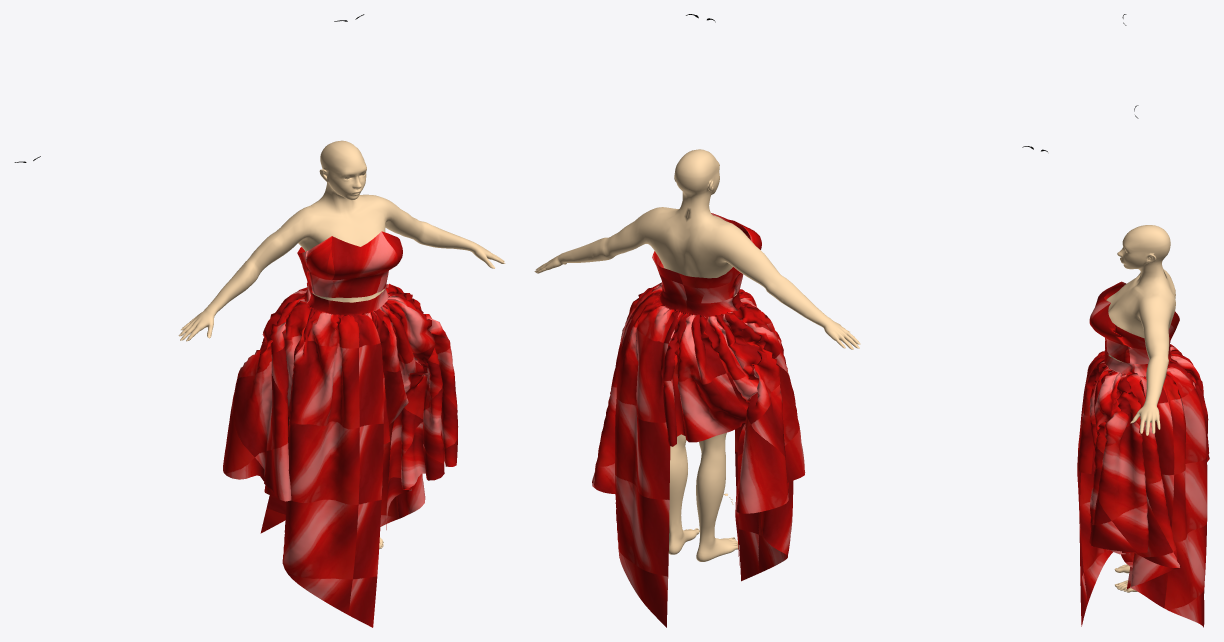
The model's file is dress2.glb.
3 views of the same model, side by side, from view 1: azimuth 30°, elevation 25°; view 2: azimuth 150°, elevation 25°; view 3: azimuth 270°, elevation 25° (orthographic). The views are drawn at different scales.
Parts seen in each view (by area): view 1: Project 1, Body.003; view 2: Project 1, Body.003; view 3: Project 1, Body.003.
Part boxes in pixels (left/top/right/bottom): Project 1: left=223, top=231, right=458, bottom=627; Body.003: left=180, top=140, right=504, bottom=549; Project 1: left=592, top=213, right=805, bottom=627; Body.003: left=535, top=149, right=858, bottom=561; Project 1: left=1077, top=281, right=1209, bottom=627; Body.003: left=1106, top=225, right=1175, bottom=592.
Bounding box in the file's own units: 2.12 × 2.37 × 0.5464.
7 materials, 1 textured.
